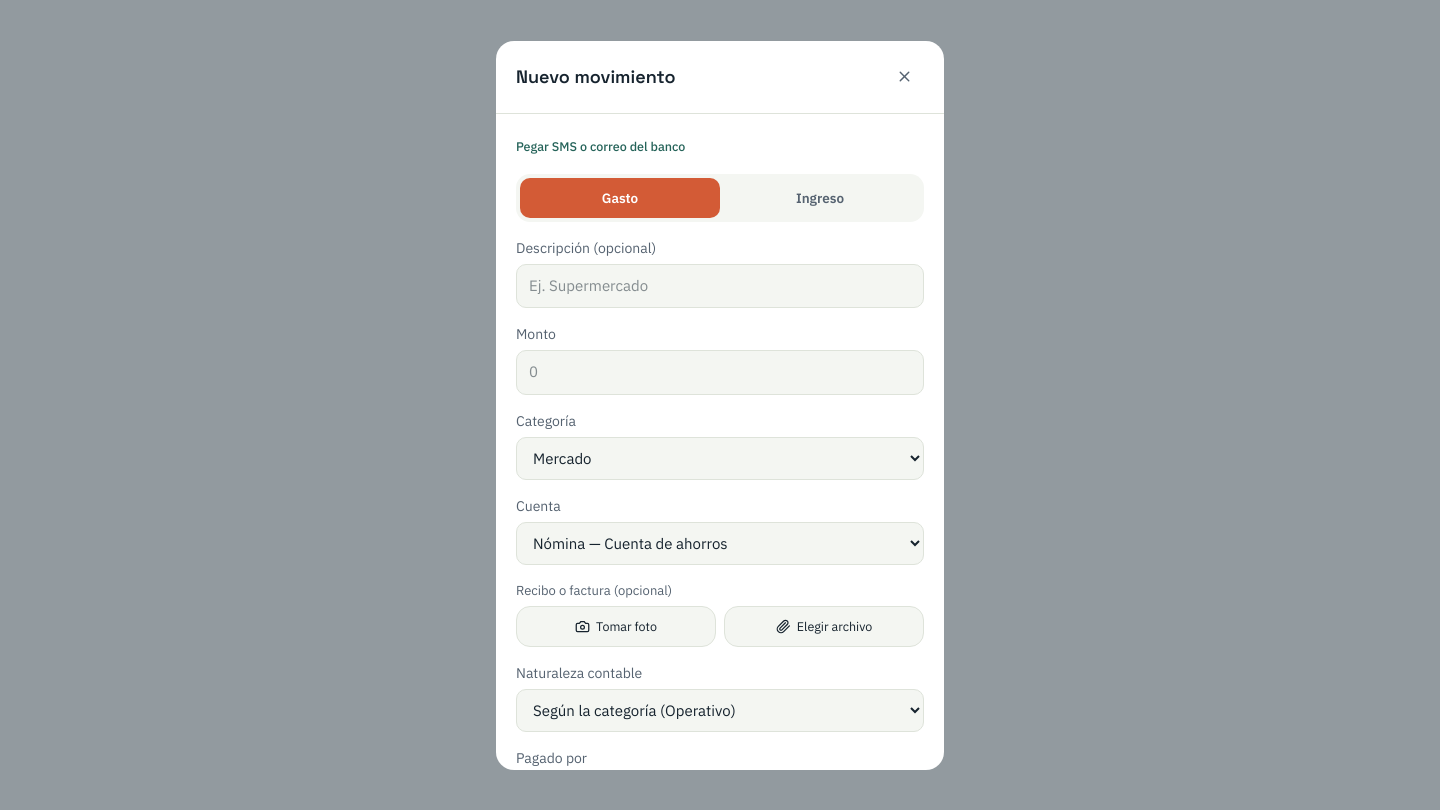
Test: Pegar SMS del banco en el formulario › lee un gasto: llena monto, comercio, fecha y sugiere la categoría con el historial
Click the button "Pegar SMS o correo del banco" at (601,146), box x1=516 y1=134 x2=685 y2=158
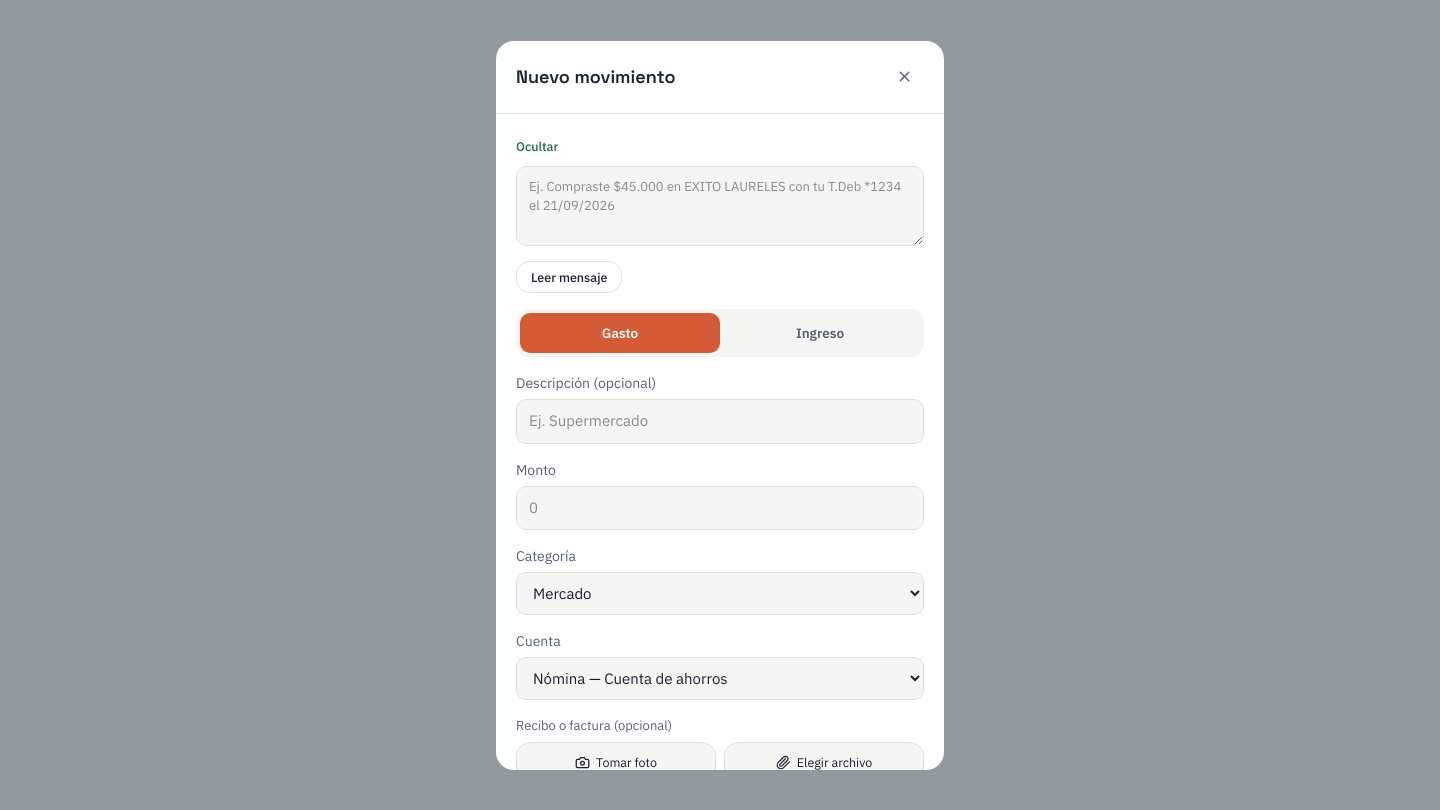
Replace the text in the text box named "Mensaje del banco" with "Bancolombia: Compraste $45.000 en EXITO LAURELES con tu T.Deb *1234 el 21/09/2026 a las 14:32." at (720,206), box x1=516 y1=166 x2=924 y2=246
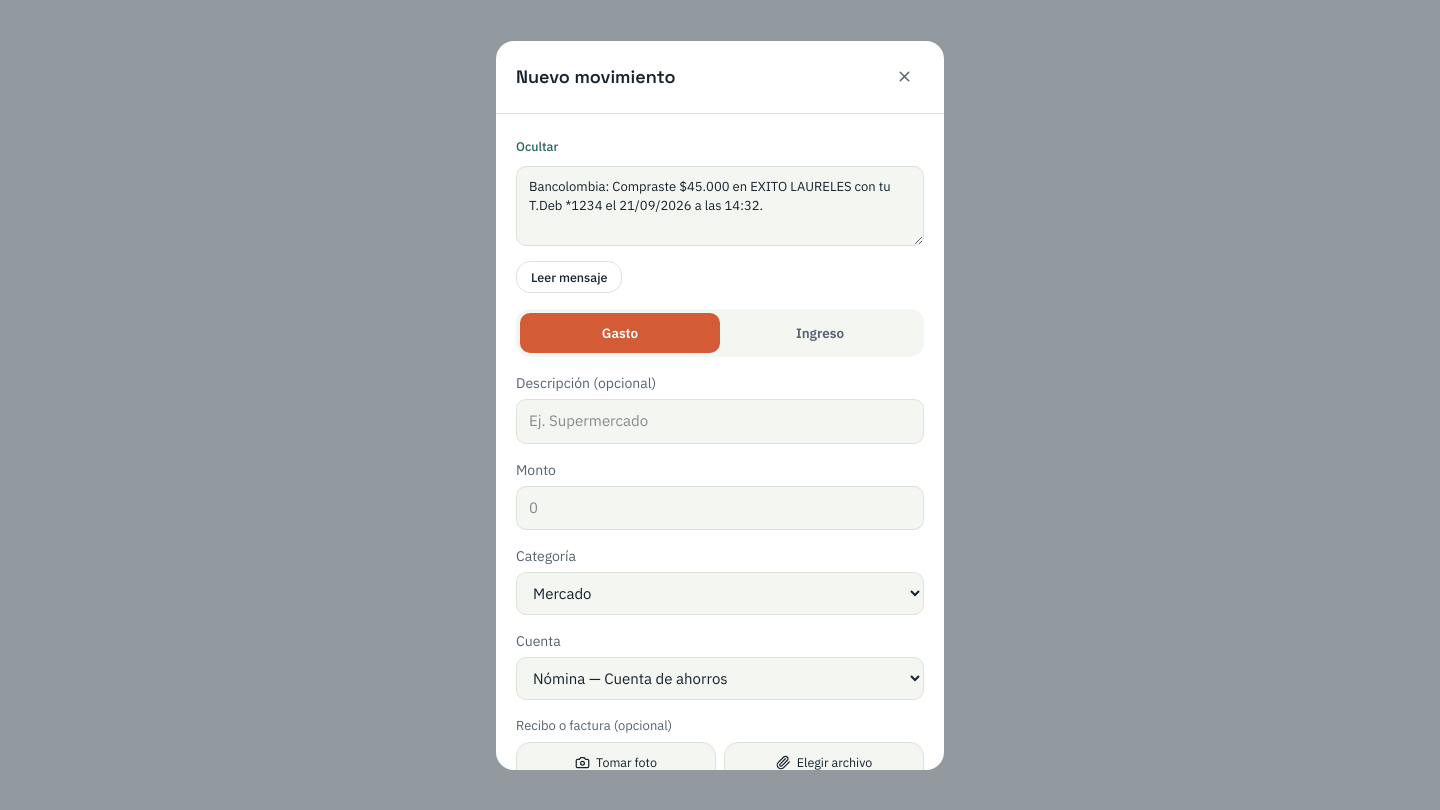
Click the button "Leer mensaje" at (569,277), box x1=516 y1=260 x2=622 y2=293
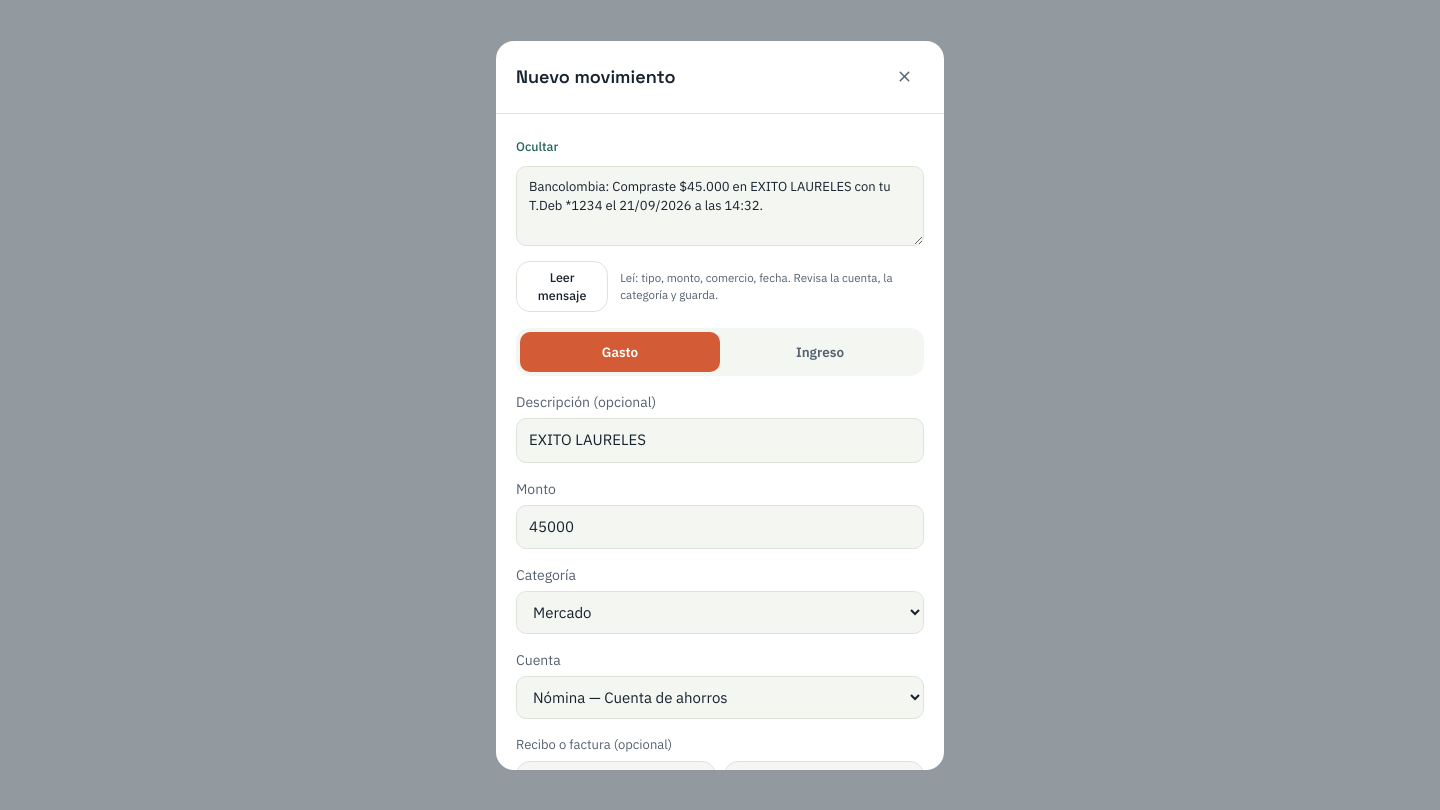
Expected: the number field showing "45000" is shown, x1=516 y1=504 x2=924 y2=549
Expected: the field showing "EXITO LAURELES" is shown, x1=516 y1=418 x2=924 y2=462
Expected: the text "Leí: tipo, monto, comercio, fecha" is shown, x1=620 y1=270 x2=892 y2=302
